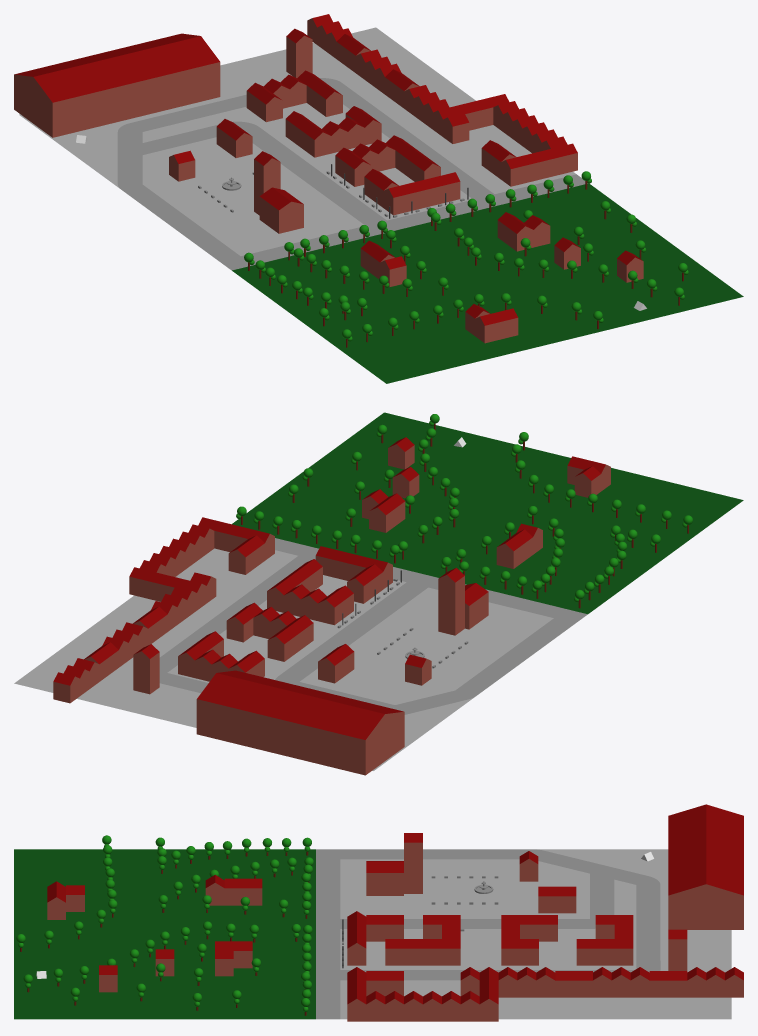
Rendered from Tymczasowe nowe Miasto Elblag 1.fbx.
3 renders of one model, top to bottom at view 1: azimuth 30°, elevation 25°; view 2: azimuth 150°, elevation 25°; view 3: azimuth 270°, elevation 25°, orthographic. The views are drawn at different scales.
Visible parts, largest first — view 1: Grass Land, places, Roads, Building.019, Building.063, Building.062, Building, Building.028, Building.025, Building.032, Building.069, Building.020 (+8 smaller); view 2: Grass Land, places, Building.019, Roads, Building.063, Building.062, Building.037, Building.074, Building.010, Building.022, Building.021, Building.064 (+7 smaller); view 3: Grass Land, places, Roads, Building.019, Building.063, Building.062, Building.043, Building.031, Building.035, Building.038, Building.044, Building.055 (+46 smaller).
Boxes of the visible parts, x1,y1,x2,y2 form: Grass Land: [232, 183, 743, 383]; places: [19, 27, 576, 255]; Roads: [117, 78, 587, 270]; Building.019: [14, 33, 220, 137]; Building.063: [254, 151, 303, 233]; Building.062: [286, 28, 312, 77]; Building: [383, 184, 410, 215]; Building.028: [226, 126, 252, 157]; Building.025: [305, 125, 331, 157]; Building.032: [501, 156, 527, 186]; Building.069: [475, 312, 501, 343]; Building.020: [316, 85, 342, 116]; Grass Land: [232, 412, 743, 614]; places: [14, 548, 553, 770]; Building.019: [196, 670, 404, 775]; Roads: [159, 538, 587, 714]; Building.063: [438, 568, 488, 635]; Building.062: [133, 644, 159, 694]; Building.037: [228, 542, 255, 574]; Building.074: [496, 536, 523, 568]; Building.010: [317, 592, 344, 625]; Building.022: [226, 610, 253, 642]; Building.021: [267, 629, 293, 661]; Building.064: [388, 437, 414, 469]; Grass Land: [14, 849, 315, 1019]; places: [340, 849, 731, 1019]; Roads: [316, 849, 660, 1019]; Building.019: [668, 804, 743, 929]; Building.063: [366, 833, 422, 895]; Building.062: [668, 929, 687, 970]; Building.043: [460, 991, 479, 1021]; Building.031: [519, 851, 538, 881]; Building.035: [347, 991, 366, 1021]; Building.038: [366, 991, 385, 1021]; Building.044: [479, 991, 498, 1021]; Building.055: [498, 967, 517, 997].
Size of the model in its own units: 12961 by 2047 by 23195.
